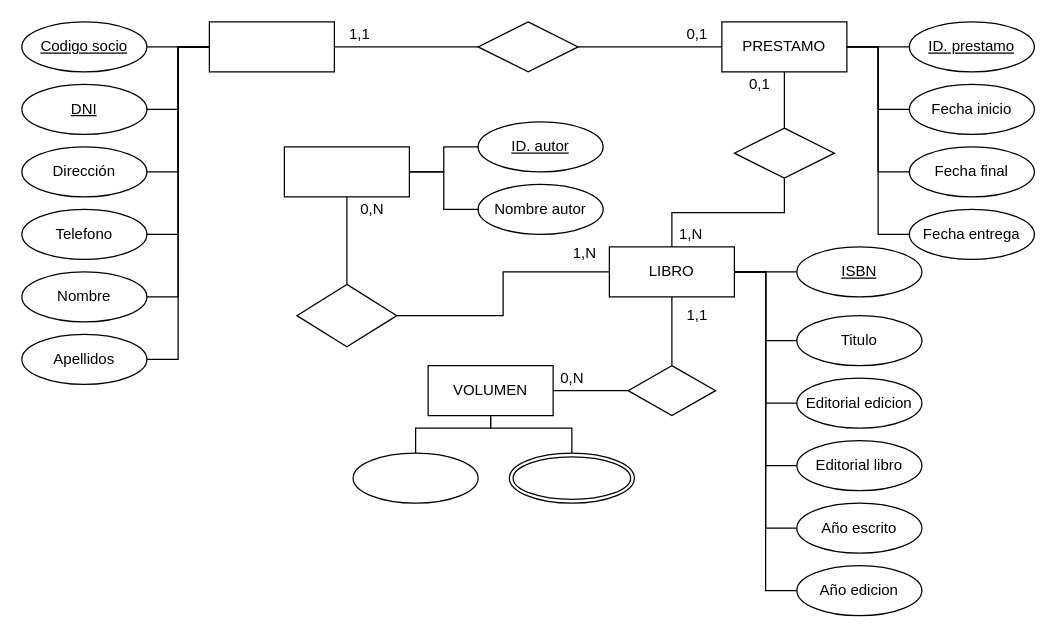
The diagram is 1056 pixels wide and 638 high, and some of its shapes have lost their labels. The centre of each missing label's shape, as x and y in pixels:
AUTOR: the point at 346,171
DETERIORADO: the point at 571,477
ESCRIBE: the point at 346,315
ID. volumen: the point at 415,477
Se presta: the point at 783,152
SOCIO: the point at 271,46
SOLICITA: the point at 527,46
TIENE: the point at 671,390
